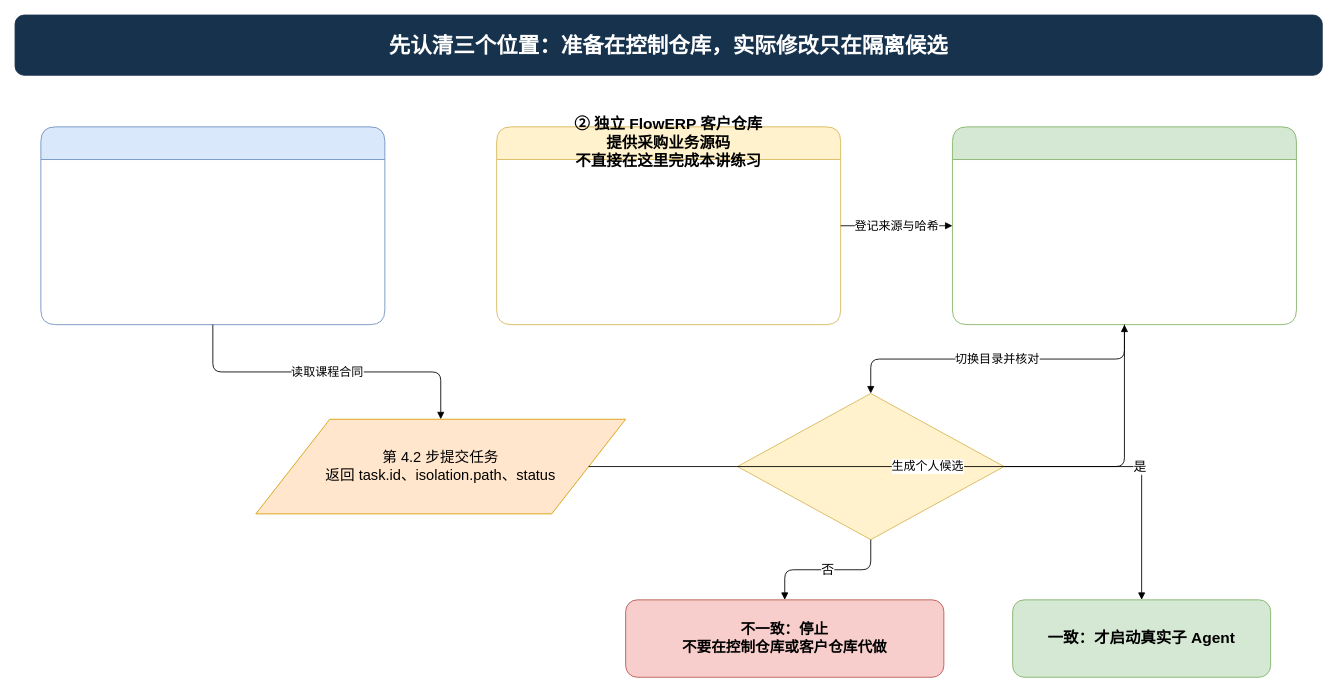
Some shapes in this 1337 by 692 pixel diagram are drawn without their labels. The shapes that lost their labels are listed below. From the top down, each one's centre as x and y in pixels, then its label:
At (212,225): "① CodexFDE 控制仓库 运行第 1～4 步准备命令 保存课程、工作台、提交模板".
At (1124,225): "③ 工作台返回的隔离候选 第 5～6 步的唯一工作目录 组合来源：agent／flowerp／eval／tests".
At (870,466): "进入候选后先核对 当前目录 = isolation.path 三个源码导入均指向候选".
